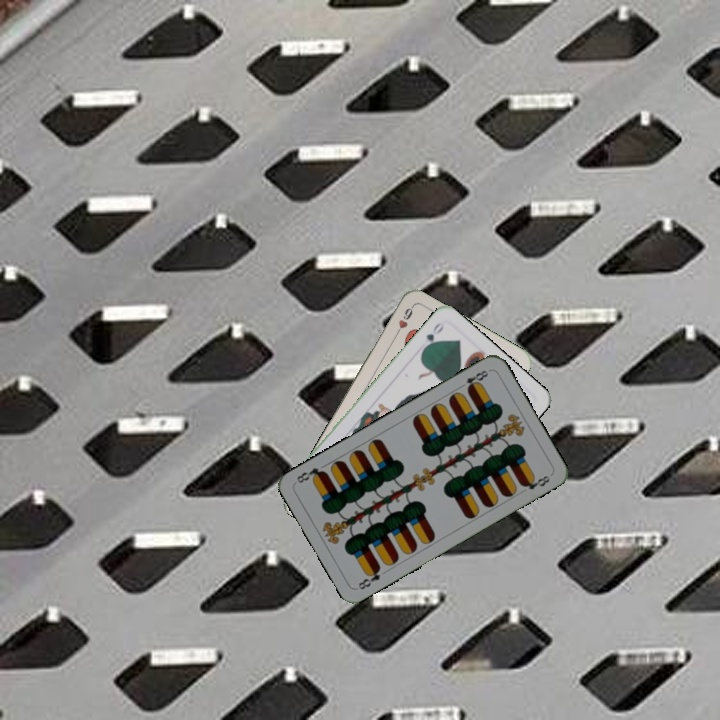E8: (455, 366, 492, 393), (354, 562, 383, 592)
GO: (418, 318, 446, 354)
H9: (390, 302, 416, 340)
